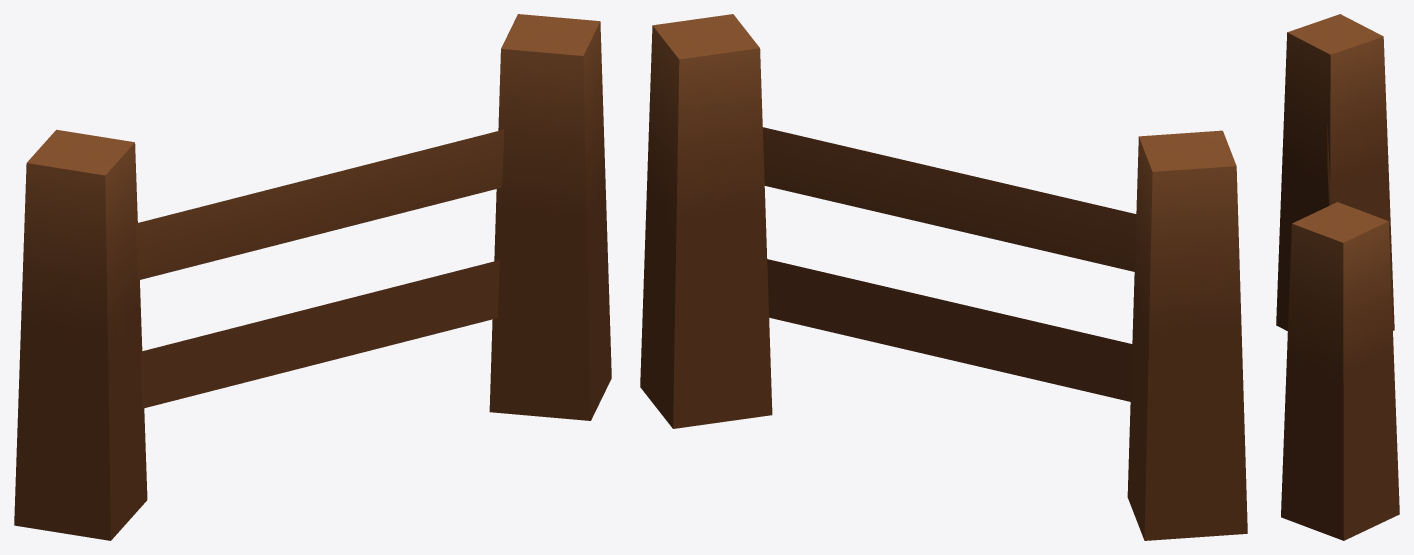
Rendered from Fence.FBX.
3 renders of one model, left to right at view 1: azimuth 30°, elevation 25°; view 2: azimuth 150°, elevation 25°; view 3: azimuth 270°, elevation 25°, orthographic. The views are drawn at different scales.
Visible parts, largest first — view 1: pasted__Plane.2785; view 2: pasted__Plane.2785; view 3: pasted__Plane.2785.
Boxes of the visible parts, x1,y1,x2,y2 form: pasted__Plane.2785: [14, 14, 611, 540]; pasted__Plane.2785: [640, 14, 1247, 540]; pasted__Plane.2785: [1276, 14, 1399, 540].
Size of the model in its own units: 45.11 by 25.91 by 9.9.
